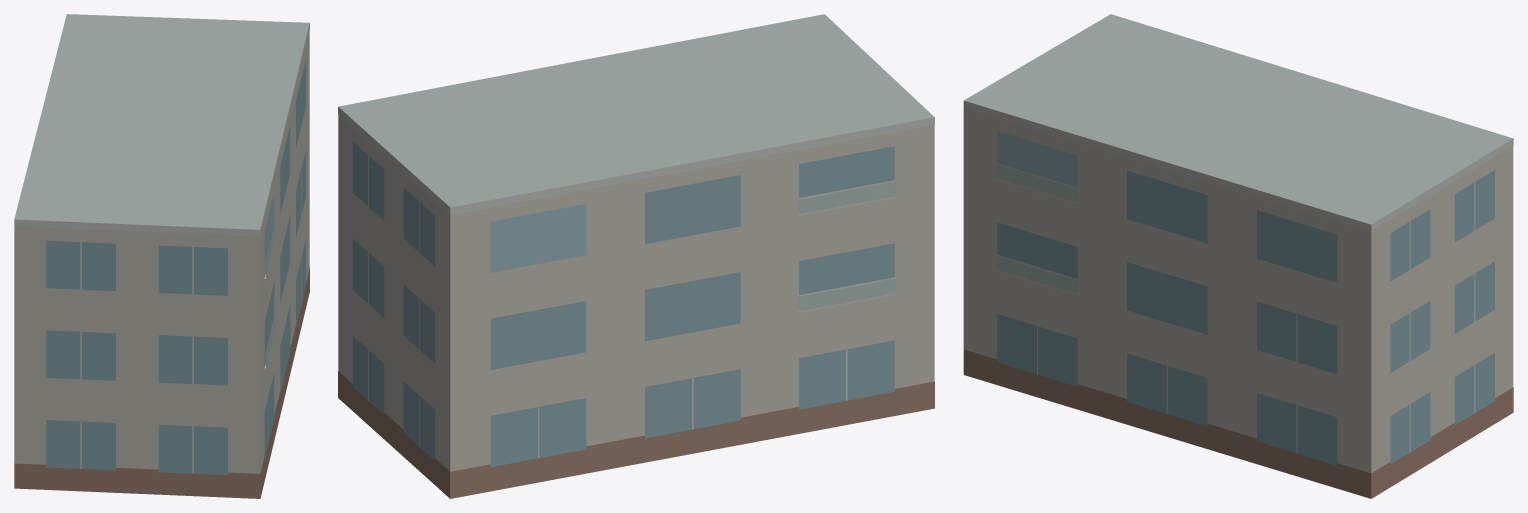
Rendered from survey-upis-32737724.glb.
The picture shows the model from 3 angles, left to right: view 1: azimuth 30°, elevation 25°; view 2: azimuth 150°, elevation 25°; view 3: azimuth 270°, elevation 25°; orthographic projection. The views are drawn at different scales.
Parts seen in each view (by area): view 1: survey-upis-32737724.tmp; view 2: survey-upis-32737724.tmp; view 3: survey-upis-32737724.tmp.
Boxes of the visible parts, box(x1,y1,x2,y2) form: survey-upis-32737724.tmp: box(14, 14, 309, 498); survey-upis-32737724.tmp: box(338, 14, 934, 498); survey-upis-32737724.tmp: box(963, 14, 1513, 498).
Size of the model in its own units: 15.49 by 9.4 by 17.08.
